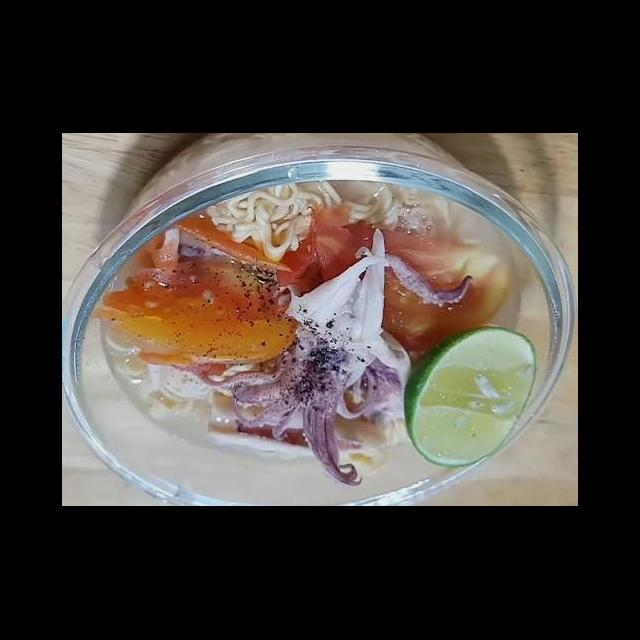muc: (169, 226, 479, 494)
